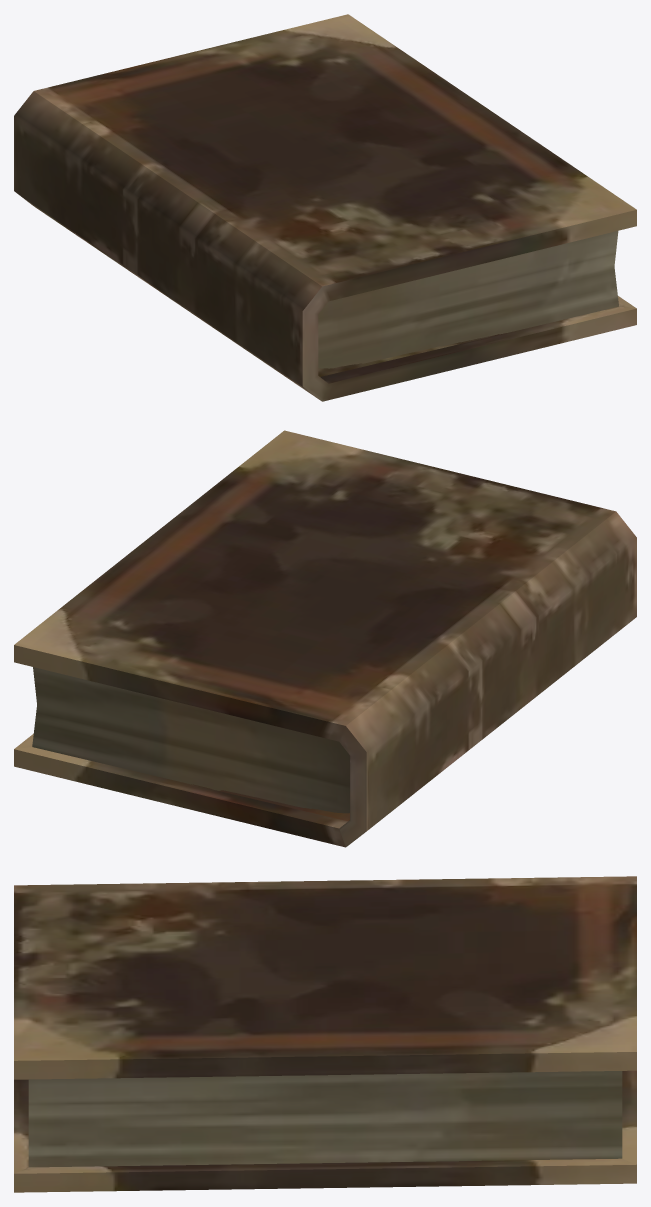
The picture shows the model from 3 angles, top to bottom: view 1: azimuth 30°, elevation 25°; view 2: azimuth 150°, elevation 25°; view 3: azimuth 270°, elevation 25°; orthographic projection. The views are drawn at different scales.
Parts seen in each view (by area): view 1: SM_DR_Book_03_LOD0; view 2: SM_DR_Book_03_LOD0; view 3: SM_DR_Book_03_LOD0.
Part boxes in pixels (<box>): SM_DR_Book_03_LOD0: <box>14,14,636,401</box>; SM_DR_Book_03_LOD0: <box>14,430,636,847</box>; SM_DR_Book_03_LOD0: <box>14,876,636,1192</box>.
Bounding box in the file's own units: 0.284 × 0.0893 × 0.3825.
1 material, 1 textured.
